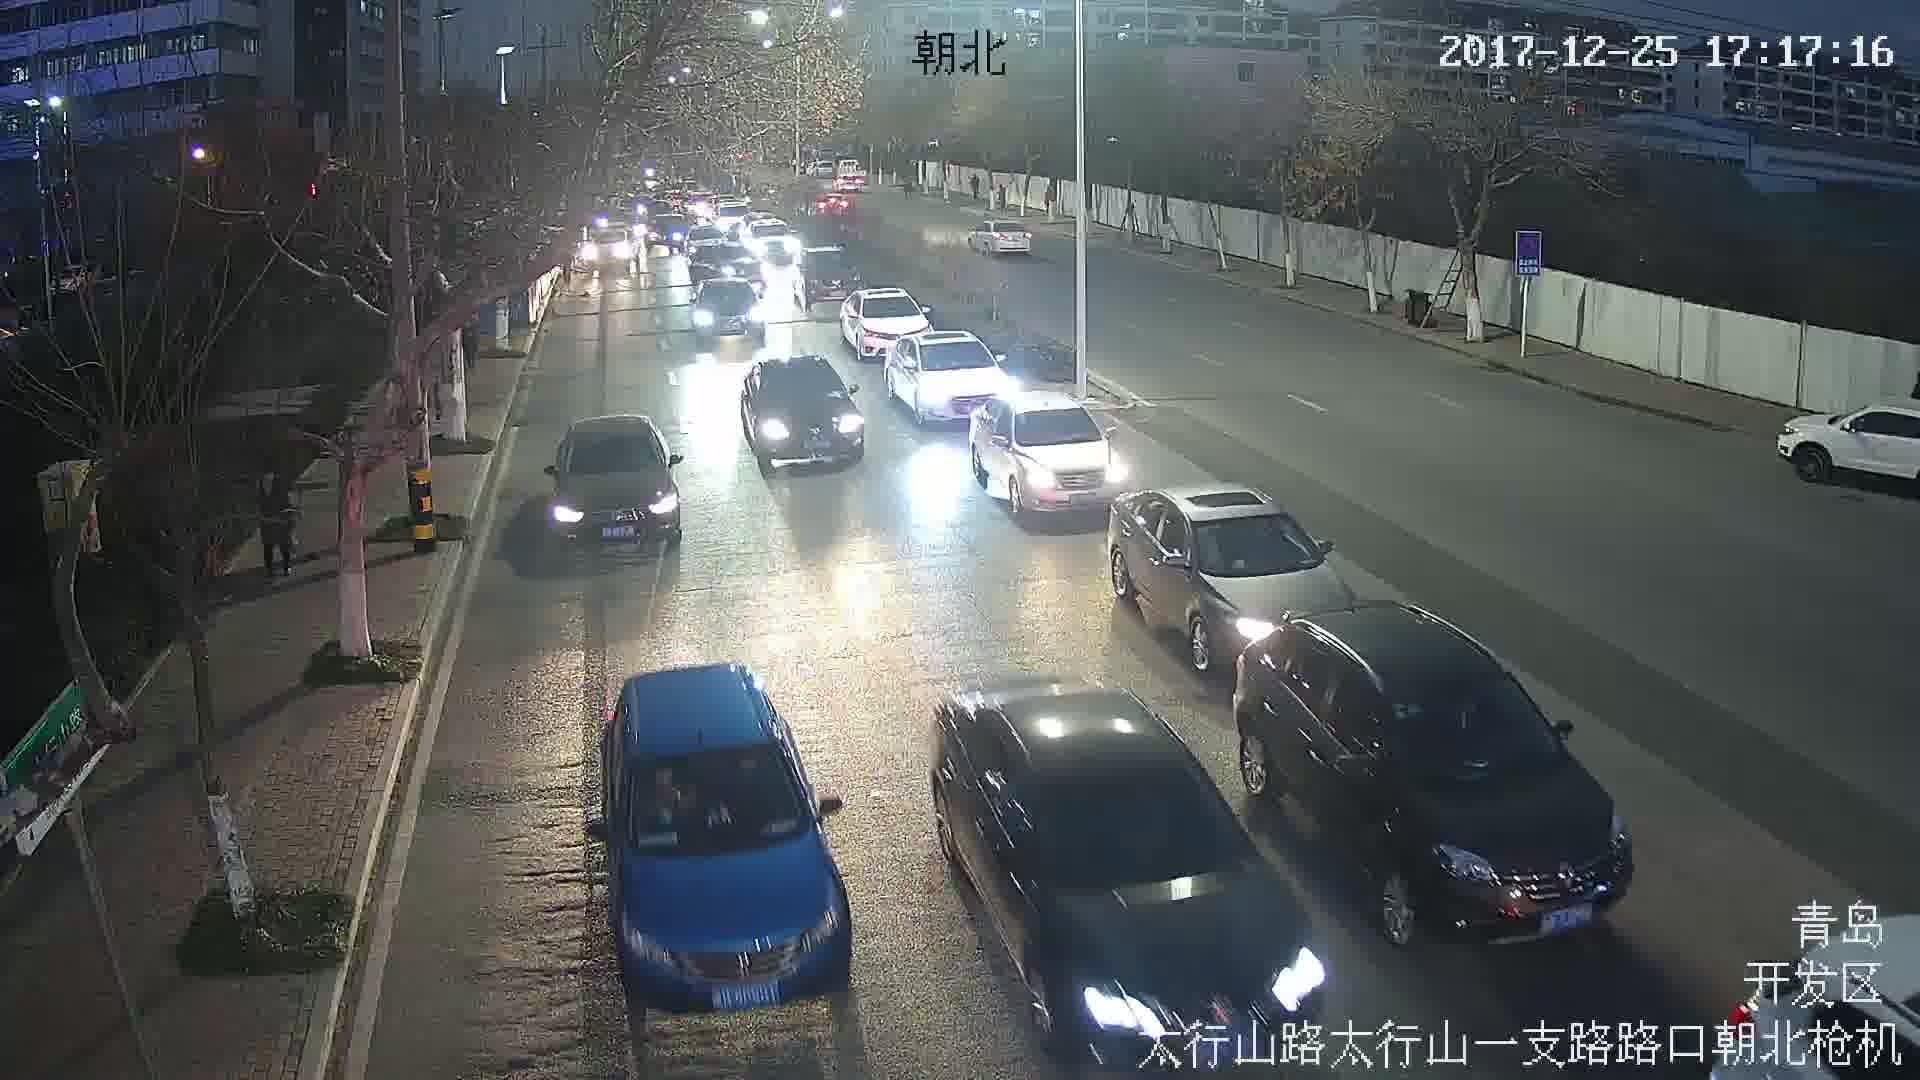car: (1242, 624, 1637, 952), (578, 660, 848, 1009), (1103, 488, 1359, 670), (967, 399, 1134, 513), (543, 416, 678, 544), (742, 356, 866, 474), (885, 339, 1007, 423), (837, 285, 930, 357), (684, 282, 766, 339), (971, 221, 1028, 255)
person: (253, 467, 306, 577)
